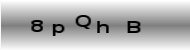8: (29, 19, 44, 32)
B: (126, 20, 142, 34)
Q: (74, 14, 92, 30)
h: (96, 19, 110, 34)
p: (50, 22, 65, 37)
